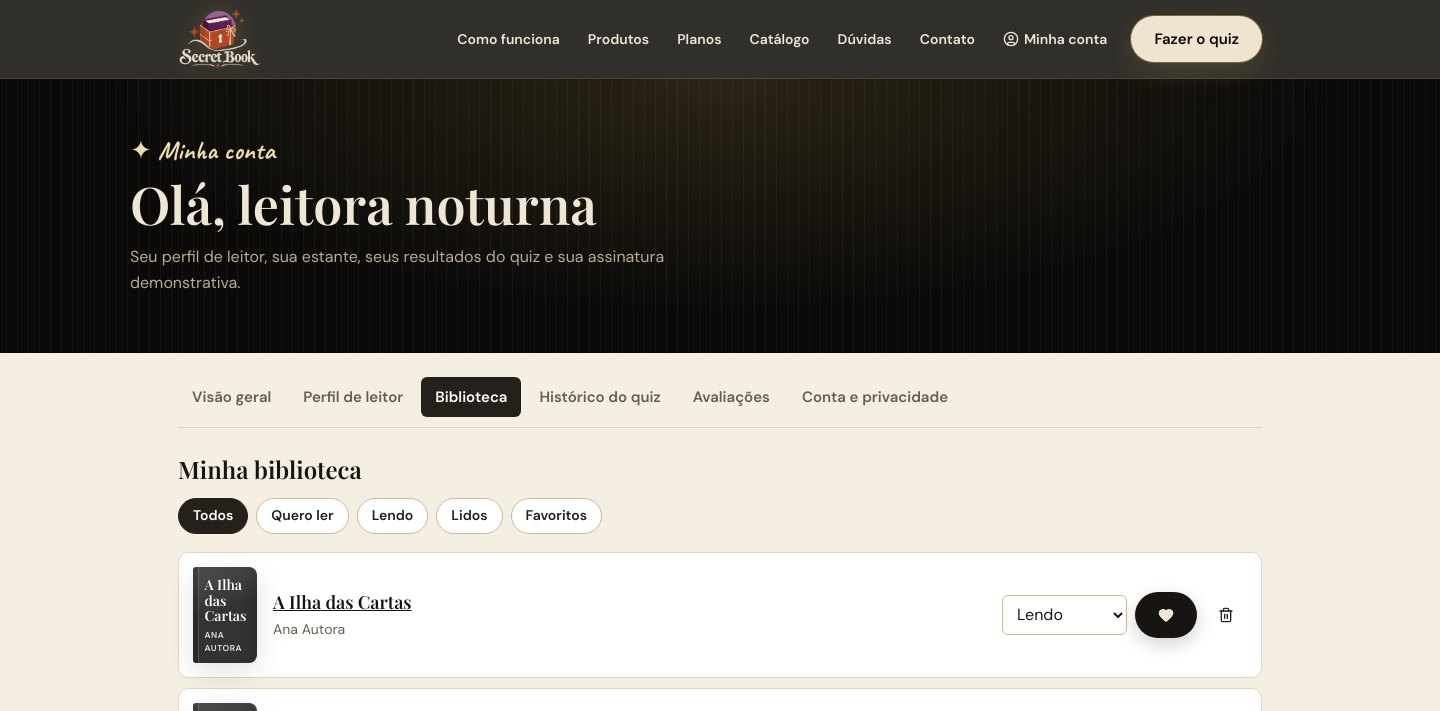
Minha conta: biblioteca › mostra o erro quando a alteração falha
Click the button named "Remover A Ilha das Cartas da biblioteca" at (1226, 615), box top-left (1205, 595), bottom-right (1247, 635)
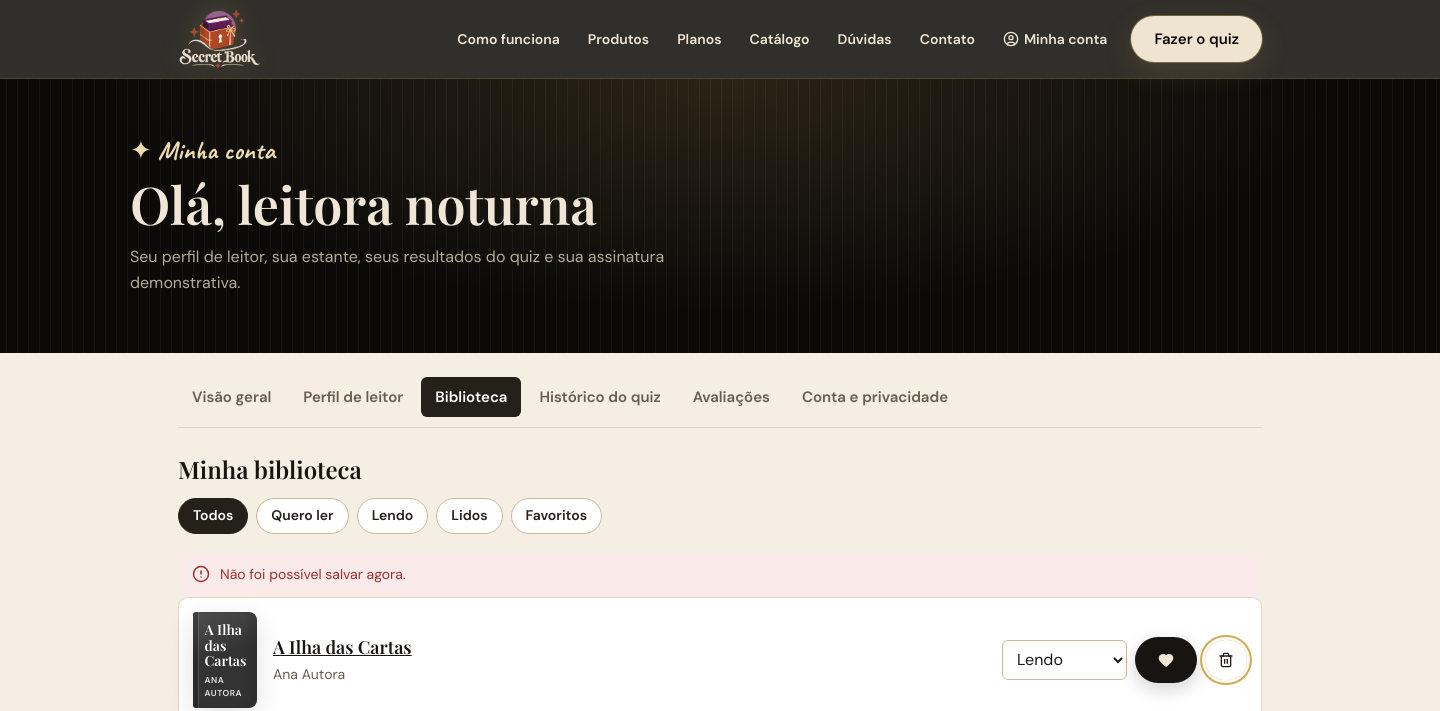
Check: the link "A Ilha das Cartas" is shown, box top-left (273, 635), bottom-right (412, 659)
Check: the message reads "Não foi possível salvar agora.", box top-left (220, 565), bottom-right (406, 583)
